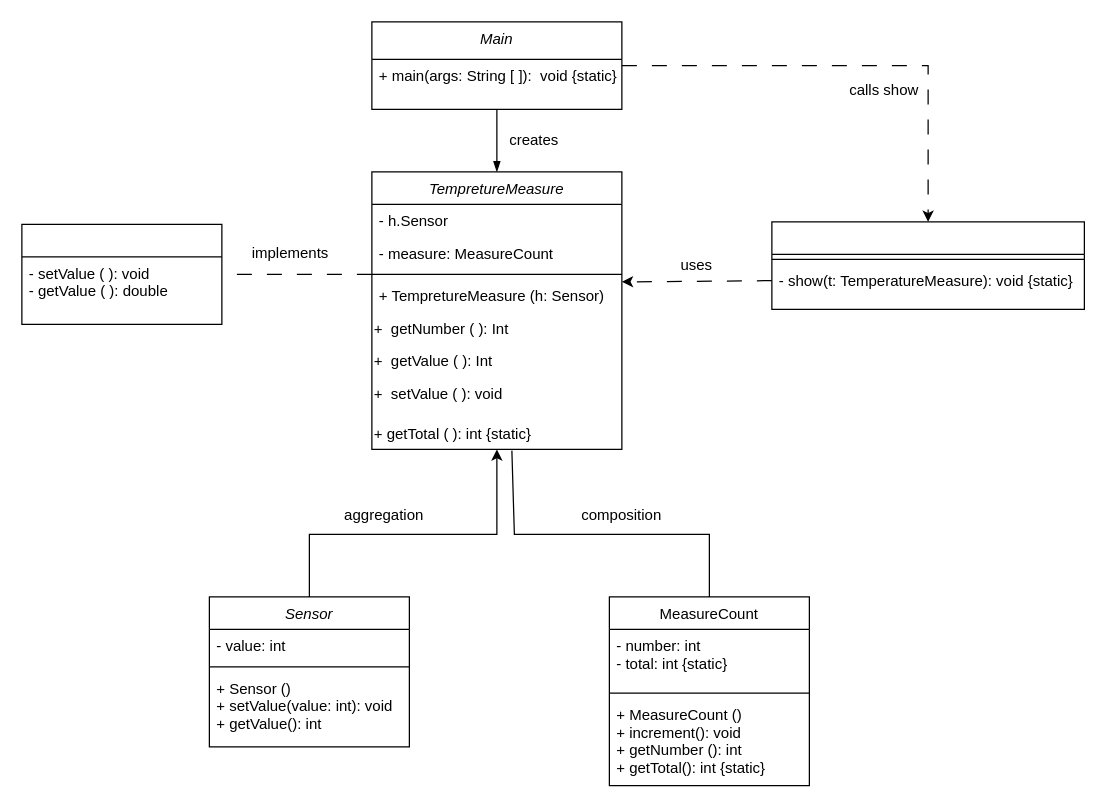
This 1106x811 diagram has some shape labels left out. The box of each missing label's shape, as (x1, y1, x2, y2) in pixels:
ITempretureMeasure: (21, 223, 222, 324)
ShowTempreture: (771, 221, 1084, 309)
